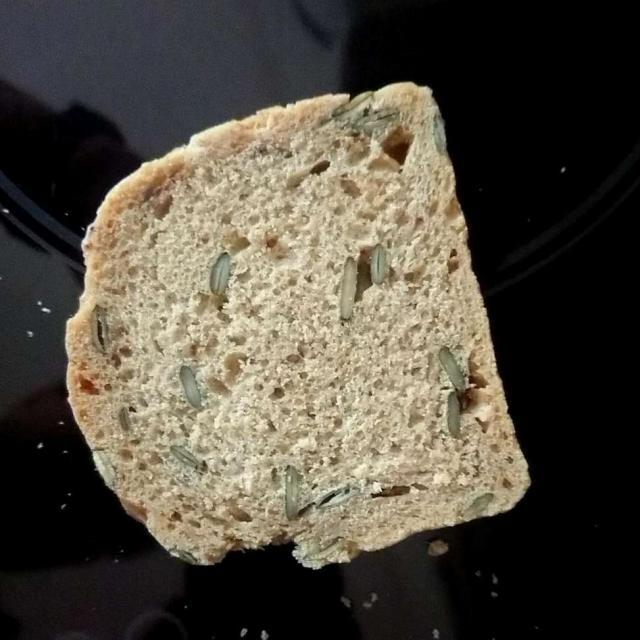bread: (71, 94, 517, 559)
